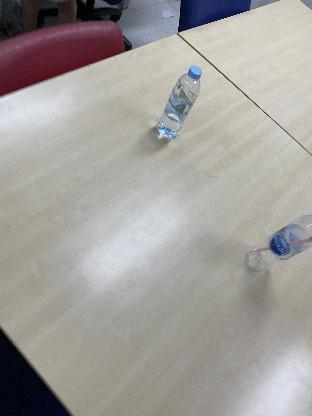Plastic Bottle: (245, 213, 312, 271), (155, 64, 203, 140)
